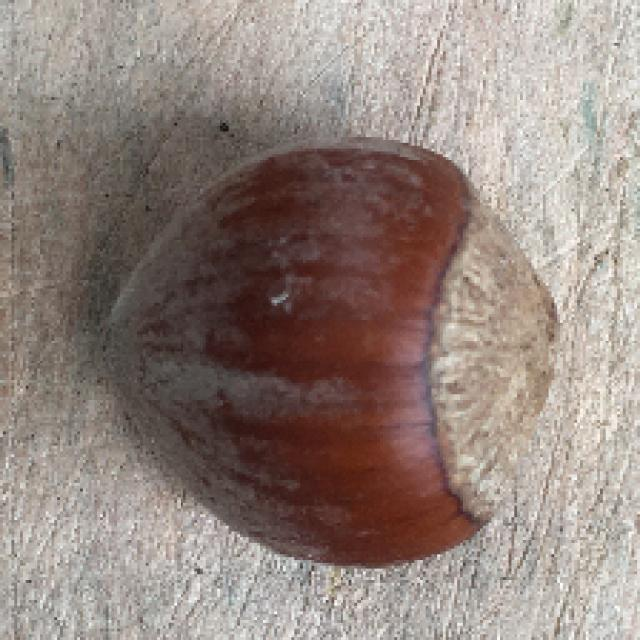qualityHazelnut: (92, 137, 565, 557)
